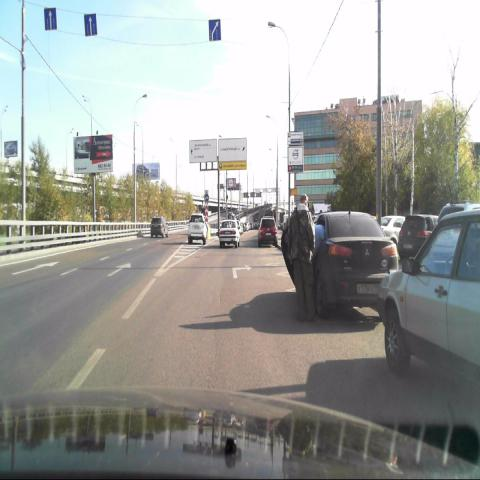5_15_2: (44, 6, 58, 31)
